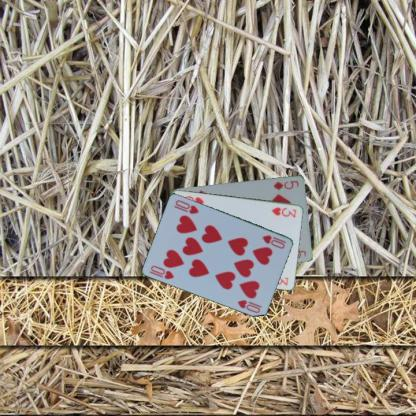10h: (260, 232, 288, 250), (148, 263, 176, 280)
3h: (269, 204, 298, 219)
5d: (271, 178, 300, 191)
